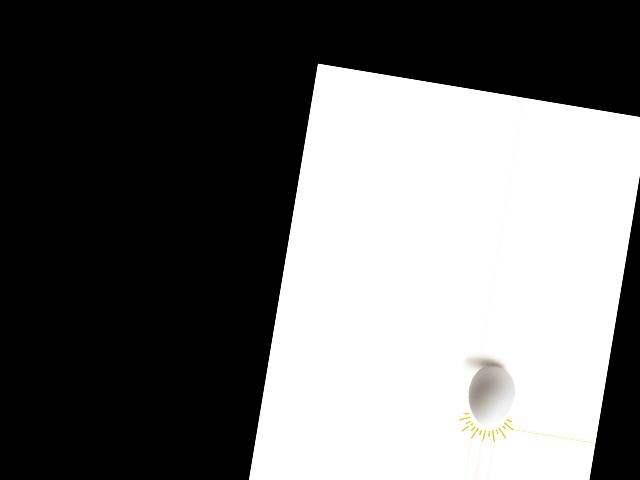egg: (464, 362, 519, 429)
